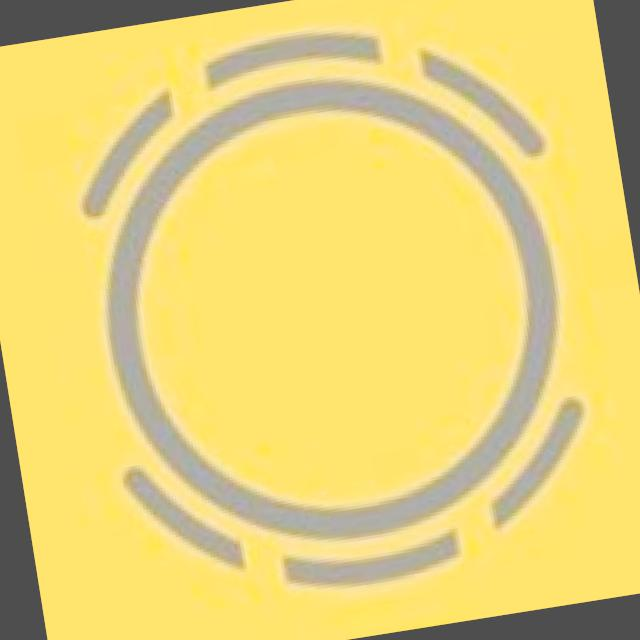kontrolka: (41, 0, 615, 640)
